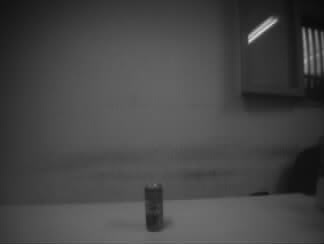Tin can: (143, 182, 164, 232)
